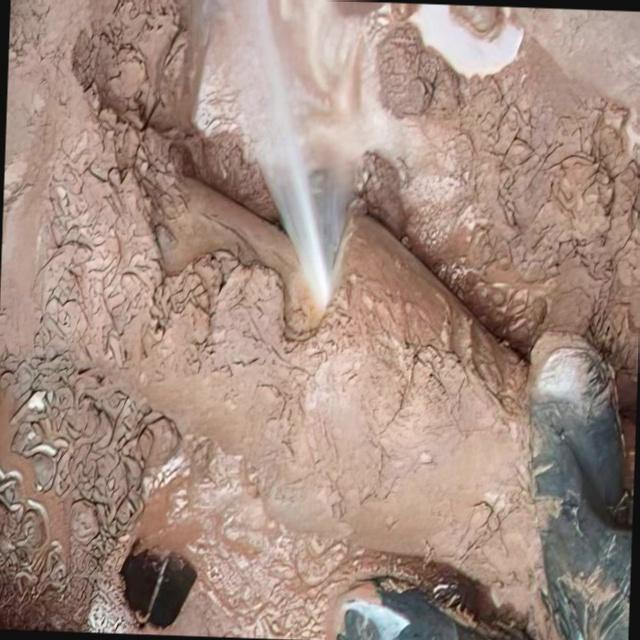pipe burst: (206, 0, 347, 314)
water accumulation: (0, 397, 329, 640), (401, 0, 543, 76)
